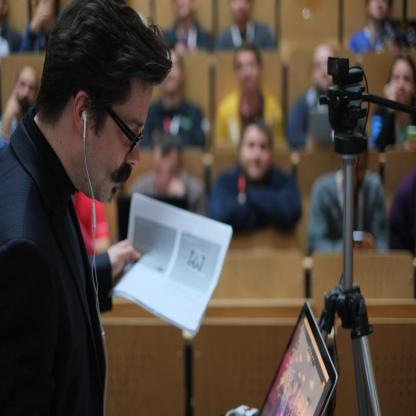board: (257, 300, 338, 415)
